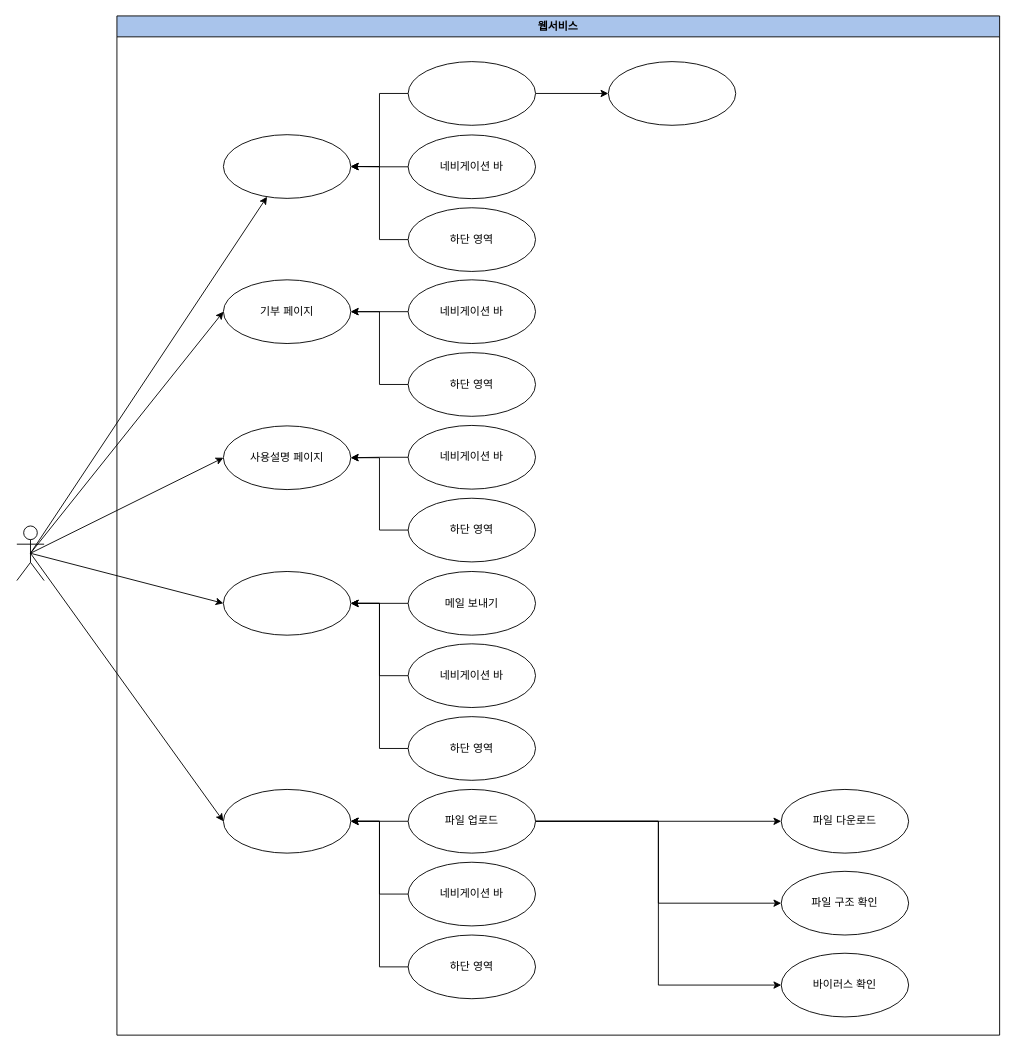
The diagram is 1016 pixels wide and 1051 high, and some of its shapes have lost their labels. The centre of each missing label's shape, as x and y in pixels:
"레퍼런스 사이트 이동" belongs at (x=671, y=93).
"레퍼런스 슬라이드" belongs at (x=471, y=93).
"메인 페이지" belongs at (x=286, y=166).
"문의 페이지" belongs at (x=286, y=603).
"바이러스 탐지 페이지" belongs at (x=286, y=821).
"사용자" belongs at (x=30, y=553).
